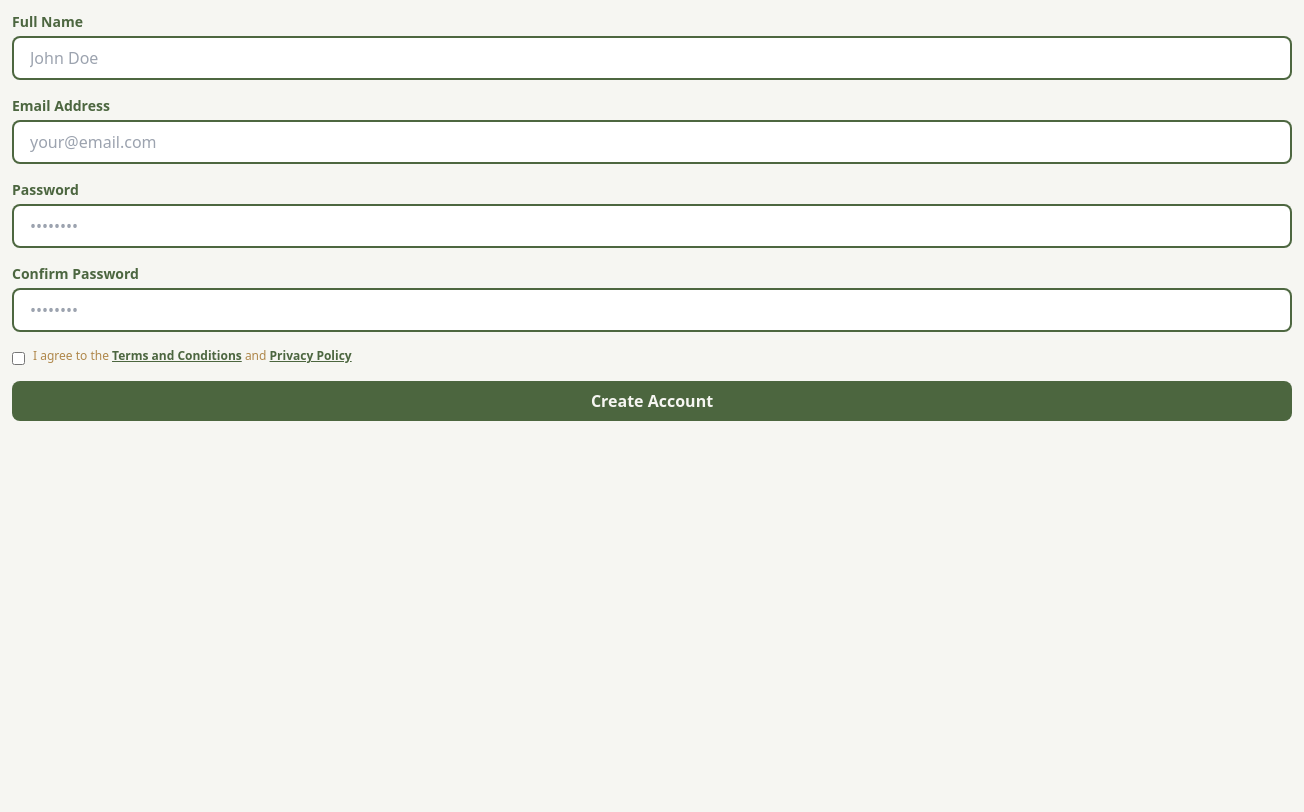
Test: RegisterForm › should show error when passwords do not match
Type "Test123!" into the password field labelled "Password".
click(652, 226); type("Test123!")  # box [12, 204, 1292, 248]
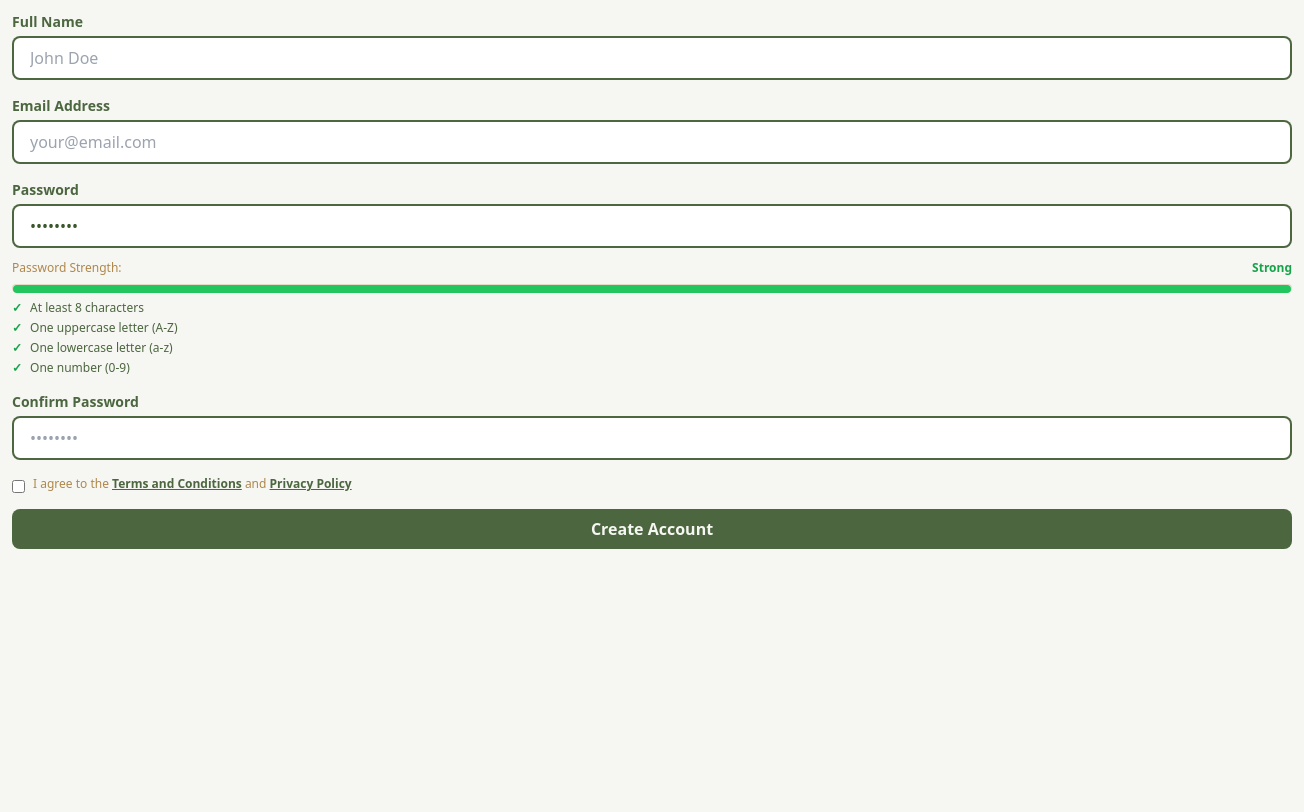
Type "Different123!" into the password field labelled "Confirm Password".
click(652, 438); type("Different123!")  # box [12, 416, 1292, 460]
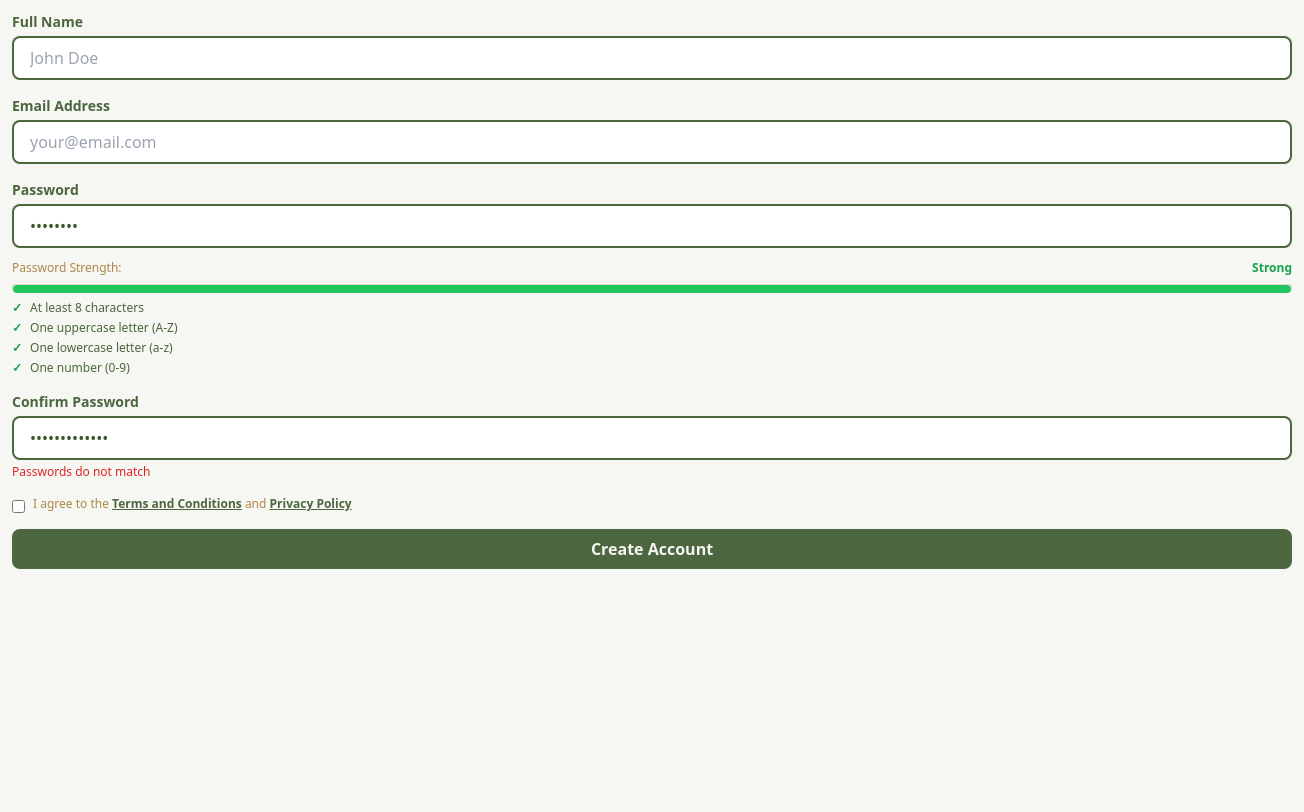
Result: the text "Passwords do not match" is shown at [12, 463, 150, 480]
